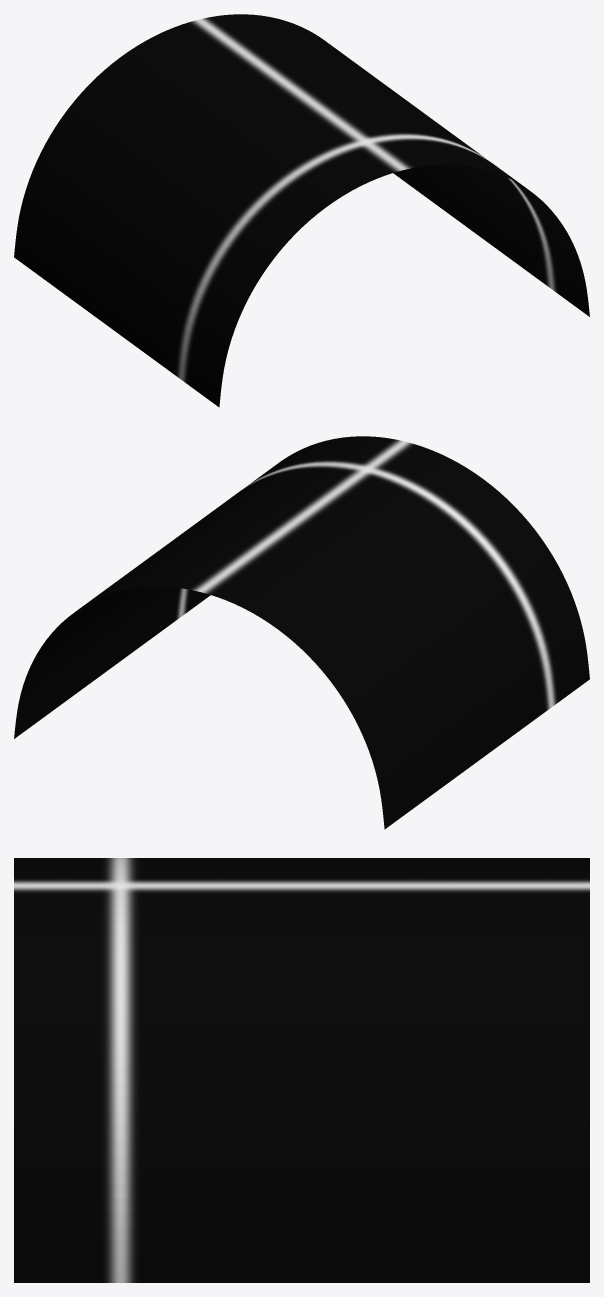
The model's file is Ground.obj.
The picture shows the model from 3 angles, top to bottom: view 1: azimuth 30°, elevation 25°; view 2: azimuth 150°, elevation 25°; view 3: azimuth 270°, elevation 25°; orthographic projection. The views are drawn at different scales.
Visible parts, largest first — view 1: Ground_Cylinder; view 2: Ground_Cylinder; view 3: Ground_Cylinder.
Boxes of the visible parts, x1=… form: Ground_Cylinder: x1=14, y1=14, x2=589, y2=407; Ground_Cylinder: x1=14, y1=436, x2=589, y2=829; Ground_Cylinder: x1=14, y1=858, x2=589, y2=1282.
Bounding box in the file's own units: 2 × 0.9936 × 1.92.
1 material, 1 textured.
